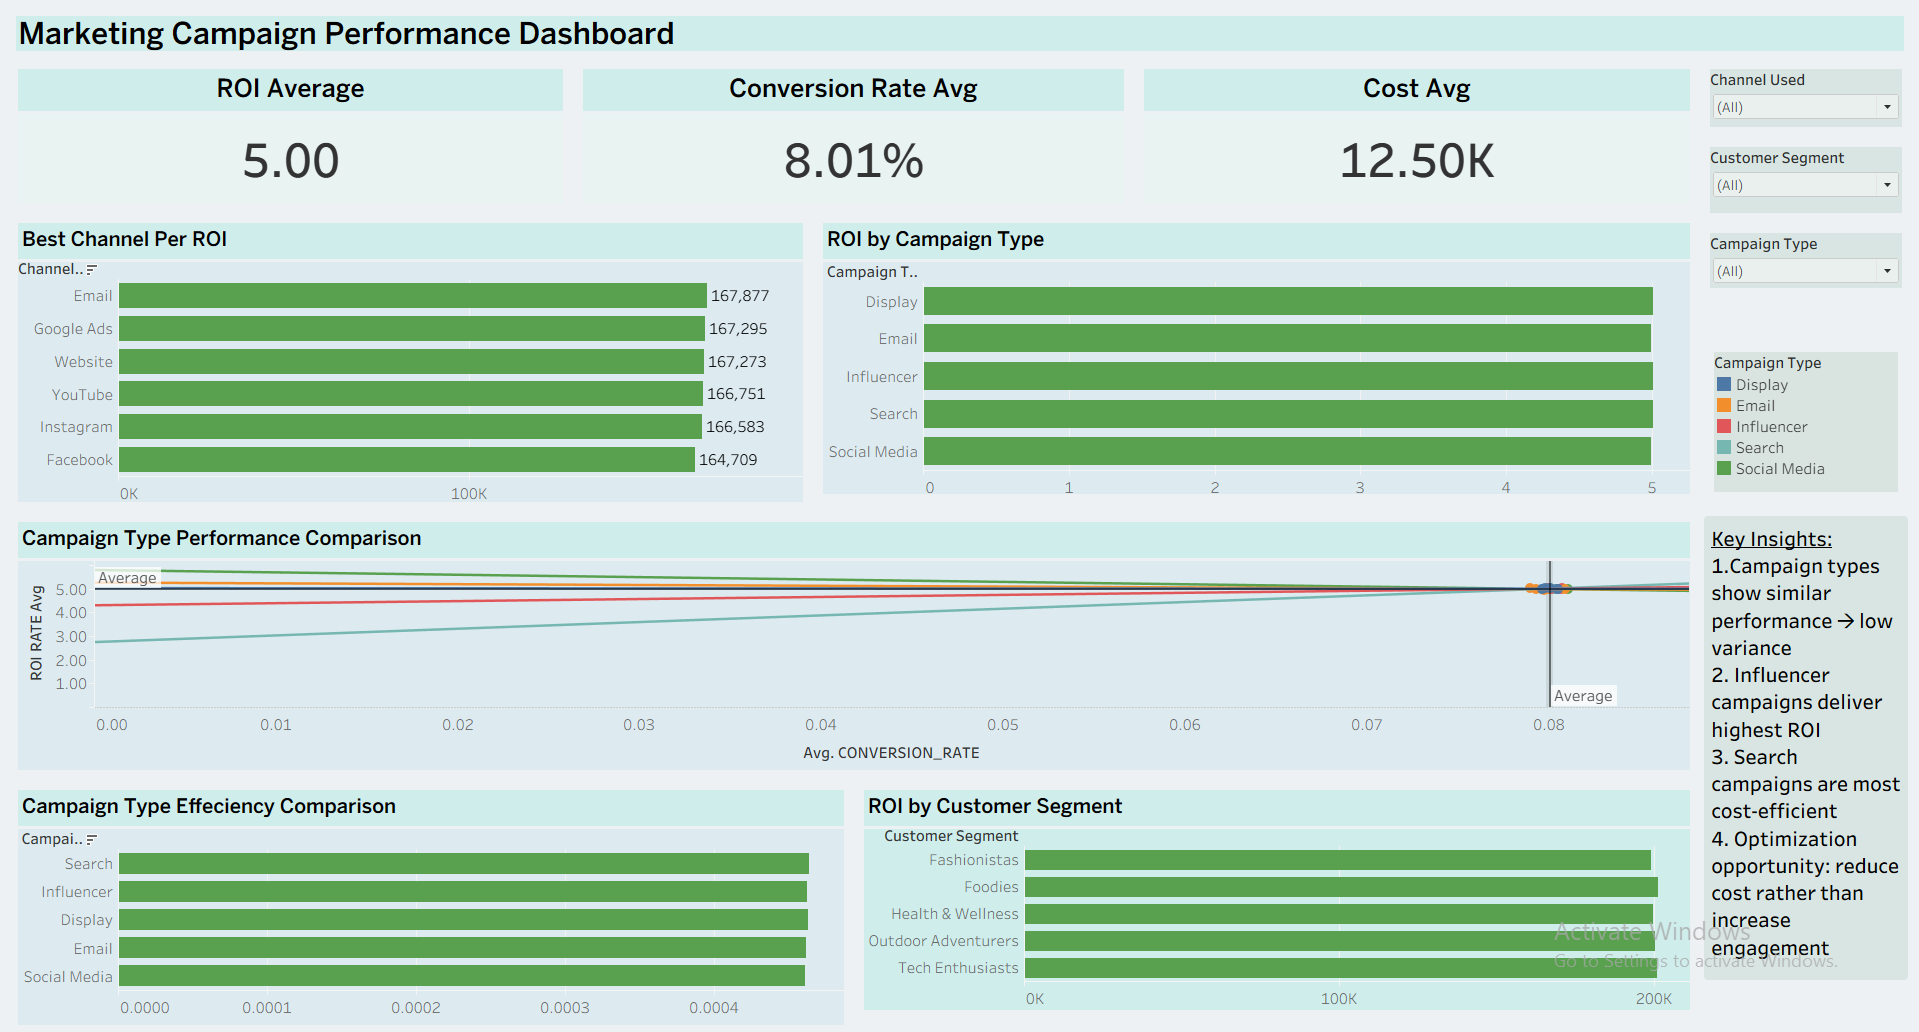

This screenshot's page, from the dashboard's own definition file:
{"tool":"tableau","page":{"name":"marketim-campaigns-performance","canvas":[1000,1000],"units":"permille","ordinal":0},"visuals":[{"type":"title","box":[4.2,9.4,991.5,59.9]},{"type":"worksheet","title":"ROI AVG","mark":"Automatic","box":[4.2,69.3,293.4,145.4]},{"type":"worksheet","title":"Conversion  Rate AVG","mark":"Automatic","box":[297.6,69.3,291.8,145.4]},{"type":"worksheet","title":"Cost AVG","mark":"Automatic","box":[589.4,69.3,294.1,145.4]},{"type":"filter","title":"ROI by Channel","param":"[federated.0ykjlmr0g4u8sf13mb73c1ohv129].[none:CHANNEL_USED:nk]","box":[883.5,69.3,112.3,87.7]},{"type":"filter","title":"Campaign Performance Distribution","param":"[federated.0ykjlmr0g4u8sf13mb73c1ohv129].[none:CUSTOMER_SEGMENT:nk]","box":[883.5,157,112.3,87.7]},{"type":"worksheet","title":"ROI by Channel","mark":"Automatic","rows":["CHANNEL_USED"],"cols":["ROI_RATE"],"box":[4.2,214.7,418.1,282.5]},{"type":"worksheet","title":"ROI by Campaign Type","mark":"Automatic","rows":["CAMPAIGN_TYPE"],"cols":["ROI_RATE"],"box":[422.3,214.7,461.1,282.5]},{"type":"filter","title":"Campaign Performance Distribution","param":"[federated.0ykjlmr0g4u8sf13mb73c1ohv129].[none:CAMPAIGN_TYPE:nk]","box":[883.5,244.7,112.3,87.7]},{"type":"legend","title":"Campaign Performance Distribution","param":"[federated.0ykjlmr0g4u8sf13mb73c1ohv129].[none:CAMPAIGN_TYPE:nk]","box":[883.5,332.4,112.3,164.4]},{"type":"text","box":[883.5,496.7,112.3,493.9]},{"type":"worksheet","title":"Campaign Performance Distribution","mark":"Circle","rows":["ROI_RATE"],"cols":["CONVERSION_RATE"],"box":[4.2,497.2,879.2,252.6]},{"type":"worksheet","title":"Effeciency by Campaign Type","mark":"Automatic","rows":["CAMPAIGN_TYPE"],"cols":["EFFECIENCY"],"box":[4.2,749.9,439.4,240.8]},{"type":"worksheet","title":"ROI by Customer Segment","mark":"Automatic","rows":["CUSTOMER_SEGMENT"],"cols":["ROI_RATE"],"box":[443.6,749.9,439.8,240.8]}]}

Visuals, with their boxes on the dashboard's canvas, which has no fixed pixel size, in thousandths of its width and height (x1, y1, x2, y2). These are canvas units, not pixel positions in the 1919x1032 screenshot, which may show the page scaled, cropped or inside an application window:
title: pyautogui.locateOnScreen(4, 9, 996, 69)
"ROI AVG" worksheet: pyautogui.locateOnScreen(4, 69, 298, 215)
"Conversion  Rate AVG" worksheet: pyautogui.locateOnScreen(298, 69, 589, 215)
"Cost AVG" worksheet: pyautogui.locateOnScreen(589, 69, 884, 215)
"ROI by Channel" filter: pyautogui.locateOnScreen(884, 69, 996, 157)
"Campaign Performance Distribution" filter: pyautogui.locateOnScreen(884, 157, 996, 245)
"ROI by Channel" worksheet: pyautogui.locateOnScreen(4, 215, 422, 497)
"ROI by Campaign Type" worksheet: pyautogui.locateOnScreen(422, 215, 883, 497)
"Campaign Performance Distribution" filter: pyautogui.locateOnScreen(884, 245, 996, 332)
"Campaign Performance Distribution" legend: pyautogui.locateOnScreen(884, 332, 996, 497)
text: pyautogui.locateOnScreen(884, 497, 996, 991)
"Campaign Performance Distribution" worksheet (Circle marks): pyautogui.locateOnScreen(4, 497, 883, 750)
"Effeciency by Campaign Type" worksheet: pyautogui.locateOnScreen(4, 750, 444, 991)
"ROI by Customer Segment" worksheet: pyautogui.locateOnScreen(444, 750, 883, 991)
